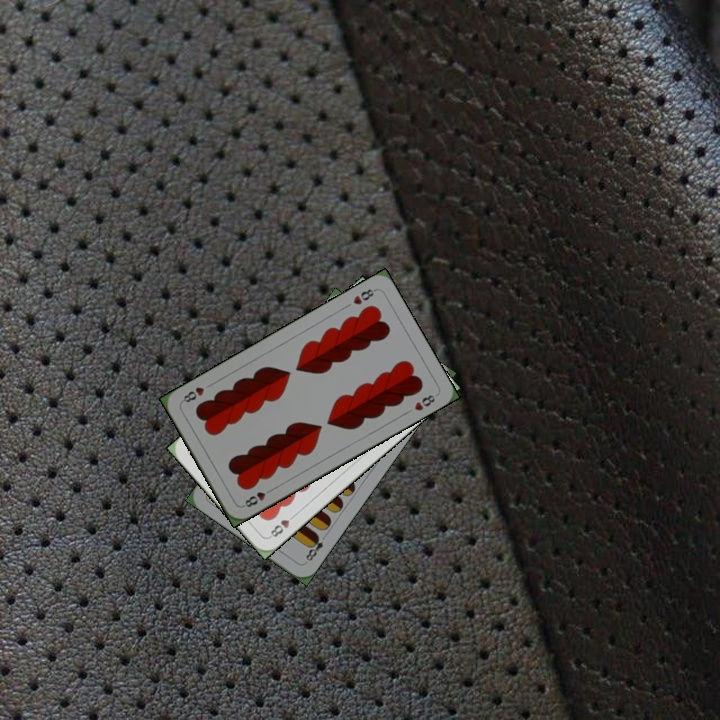E8: (301, 530, 329, 566)
H8: (265, 510, 299, 540), (239, 484, 276, 510), (349, 285, 379, 307)
